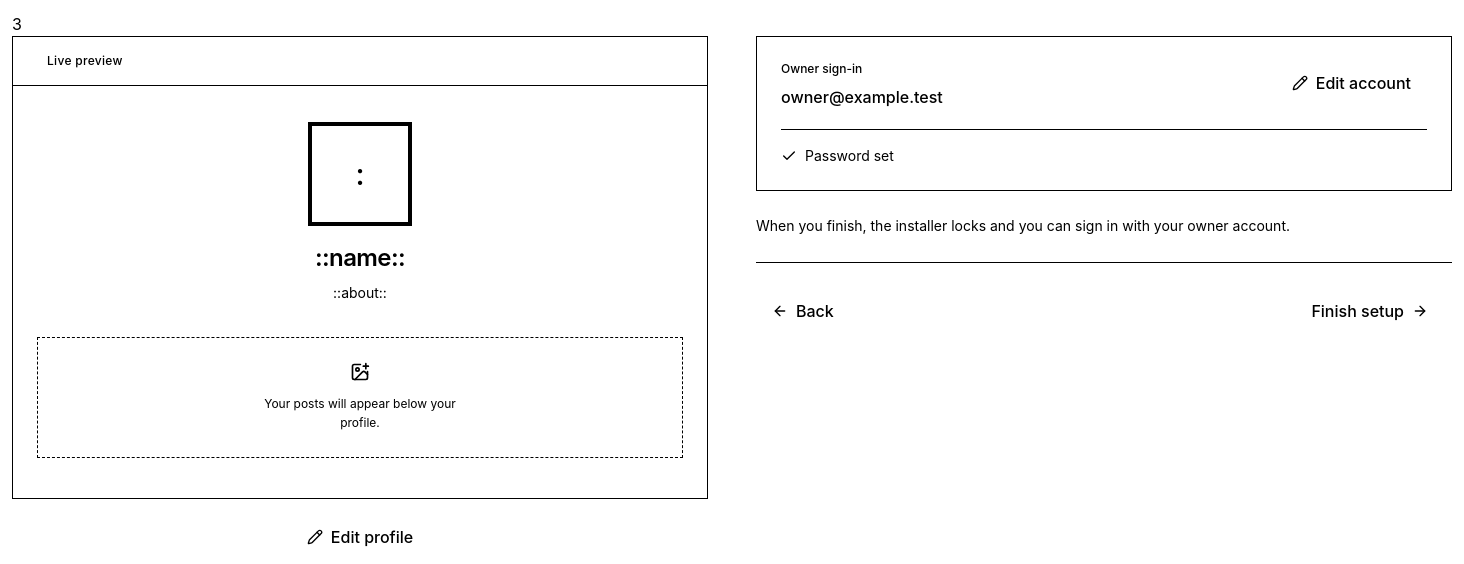
Test case: ReviewStep › Given a conflict response, should show the translated alert and re-enable the button
Check: the text "owner@example.test" is shown, box [781, 85, 943, 109]
Click the button "Finish setup".
click(1370, 311)  # box [1287, 287, 1452, 335]
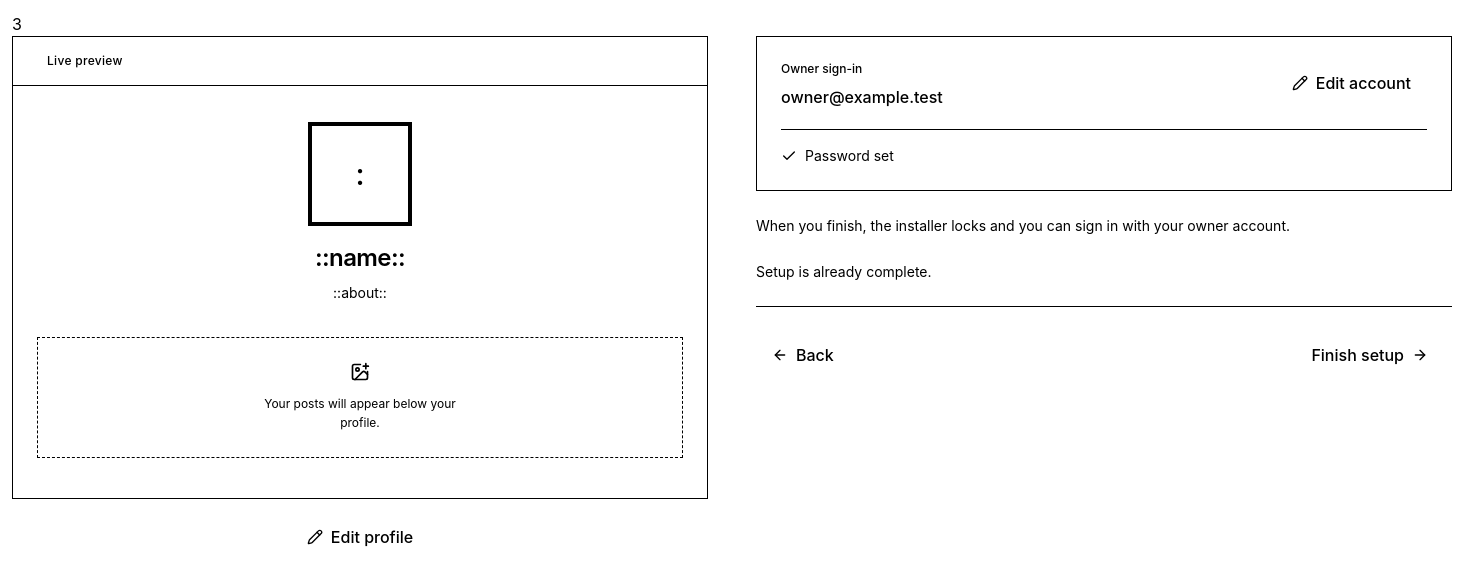
Check: the button "Finish setup" is enabled, box [1287, 331, 1452, 379]
Check: the message reads "Setup is already complete.", box [756, 263, 932, 280]
